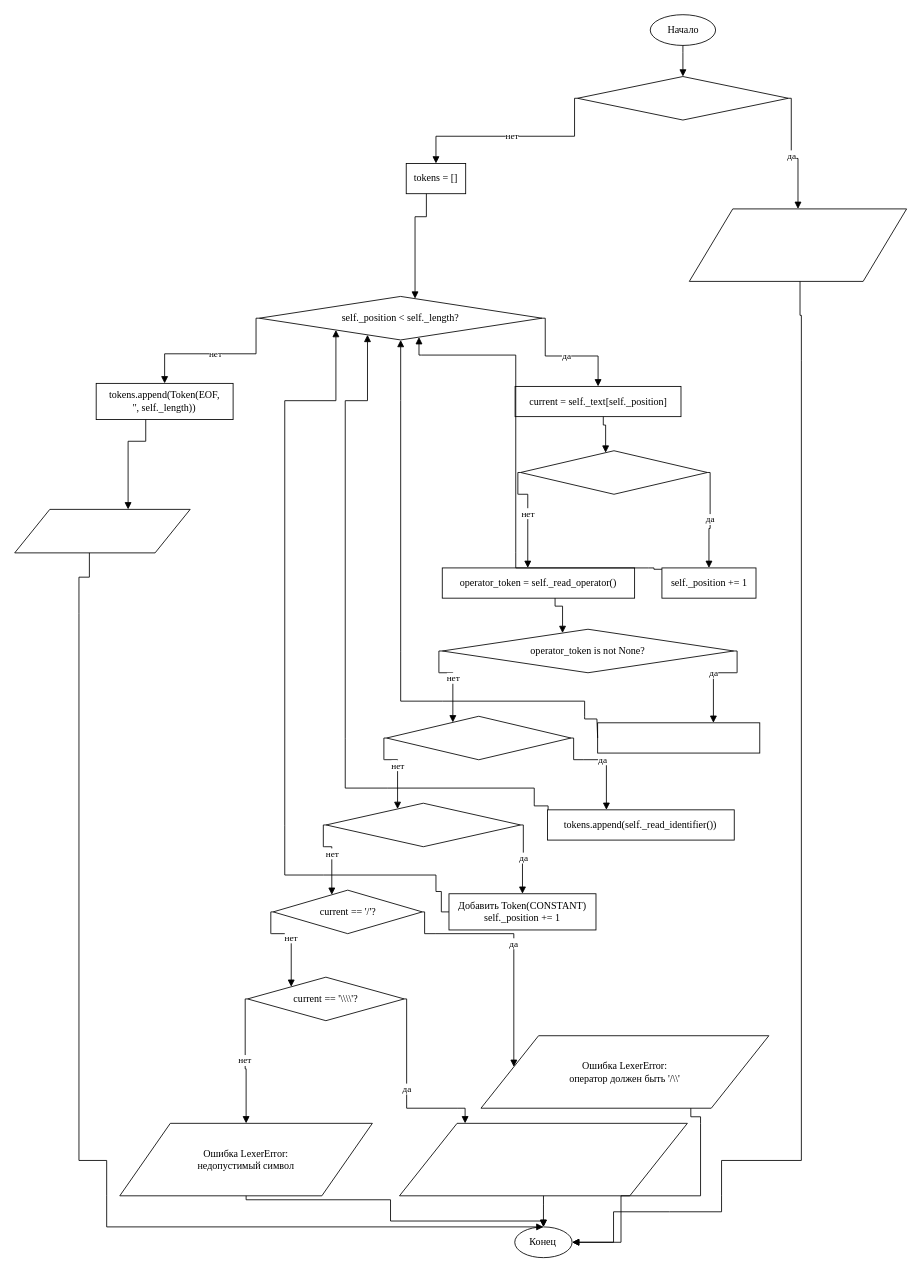
Image size: 921x1273. Some labels were removed from this diagram. Each missing label, with the centre of its shape:
"current in {'0', '1'}?" belongs at (x=423, y=824).
"current.isalpha()?" belongs at (x=478, y=737).
"current.isspace()?" belongs at (x=613, y=472).
"not self._text.strip()?" belongs at (x=682, y=98).
"tokens.append(operator_token)" belongs at (x=678, y=737).
"Возврат tokens" belongs at (x=102, y=531).
"Ошибка LexerError: оператор должен быть '\\/'" belongs at (x=543, y=1159).
"Ошибка LexerError: пустая строка" belongs at (x=797, y=244).
